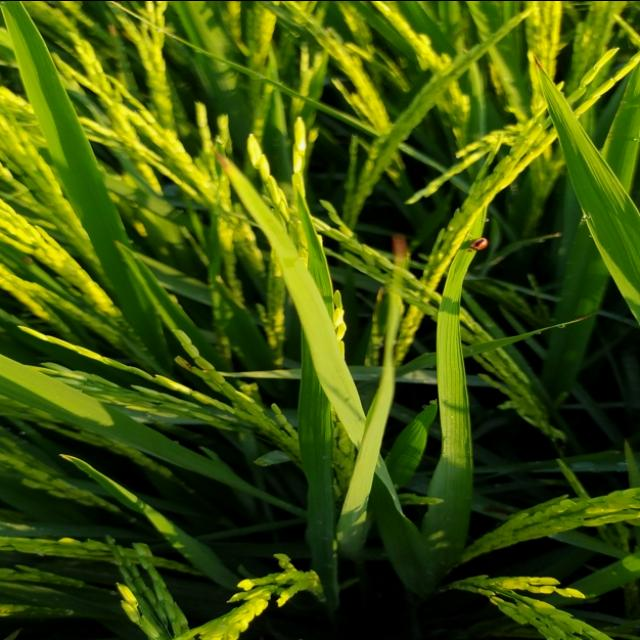Brown spot: (210, 146, 245, 189)
